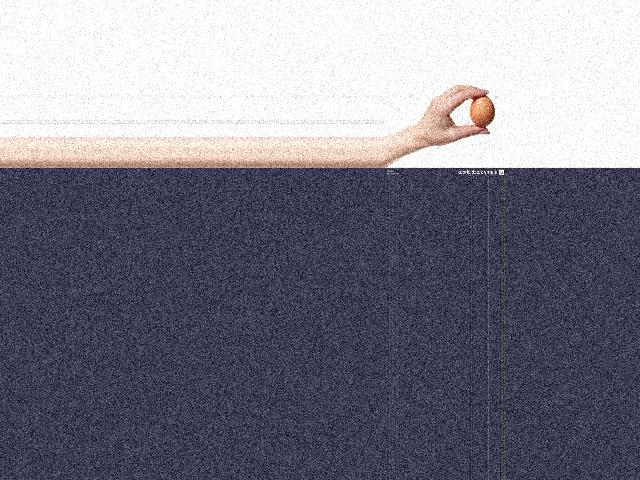egg: (468, 96, 494, 127)
